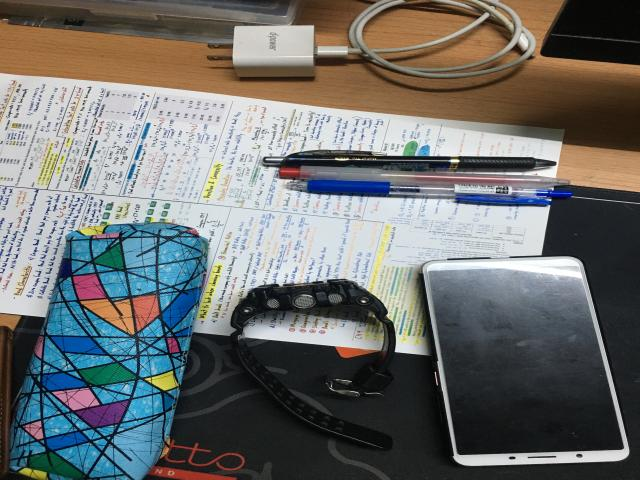Mobile phone: (422, 256, 630, 466)
Pen: (262, 152, 580, 208)
Watch: (230, 278, 395, 450)
paper: (0, 74, 563, 363)
wire: (232, 0, 537, 79)
